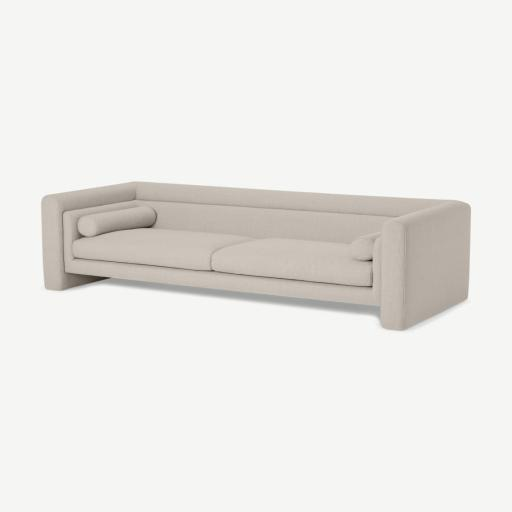back_cushion: (139, 201, 390, 242)
base: (65, 259, 378, 305)
left_arm: (379, 202, 470, 330)
right_arm: (42, 184, 135, 290)
seat_cushion: (73, 228, 376, 285)
two-seater: (0, 0, 511, 512)
